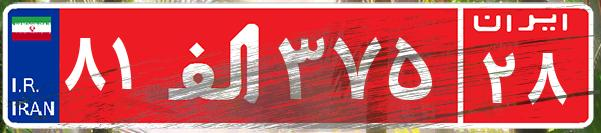1: (110, 28, 158, 105)
2: (475, 38, 525, 113)
3: (273, 28, 330, 110)
5: (385, 28, 445, 110)
7: (330, 28, 385, 110)
8: (57, 26, 110, 107), (525, 38, 570, 115)
الف: (158, 15, 273, 115)
